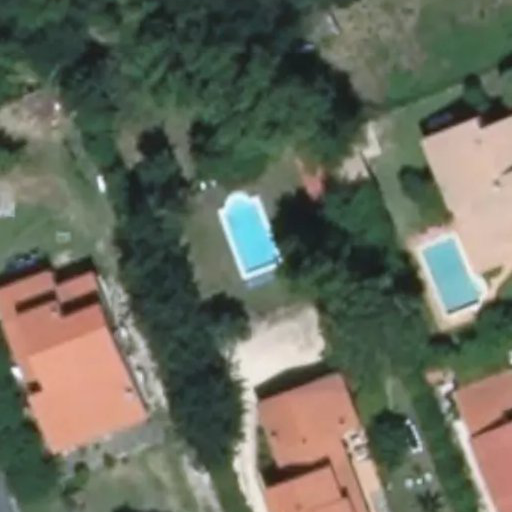pool: (223, 215, 288, 268)
